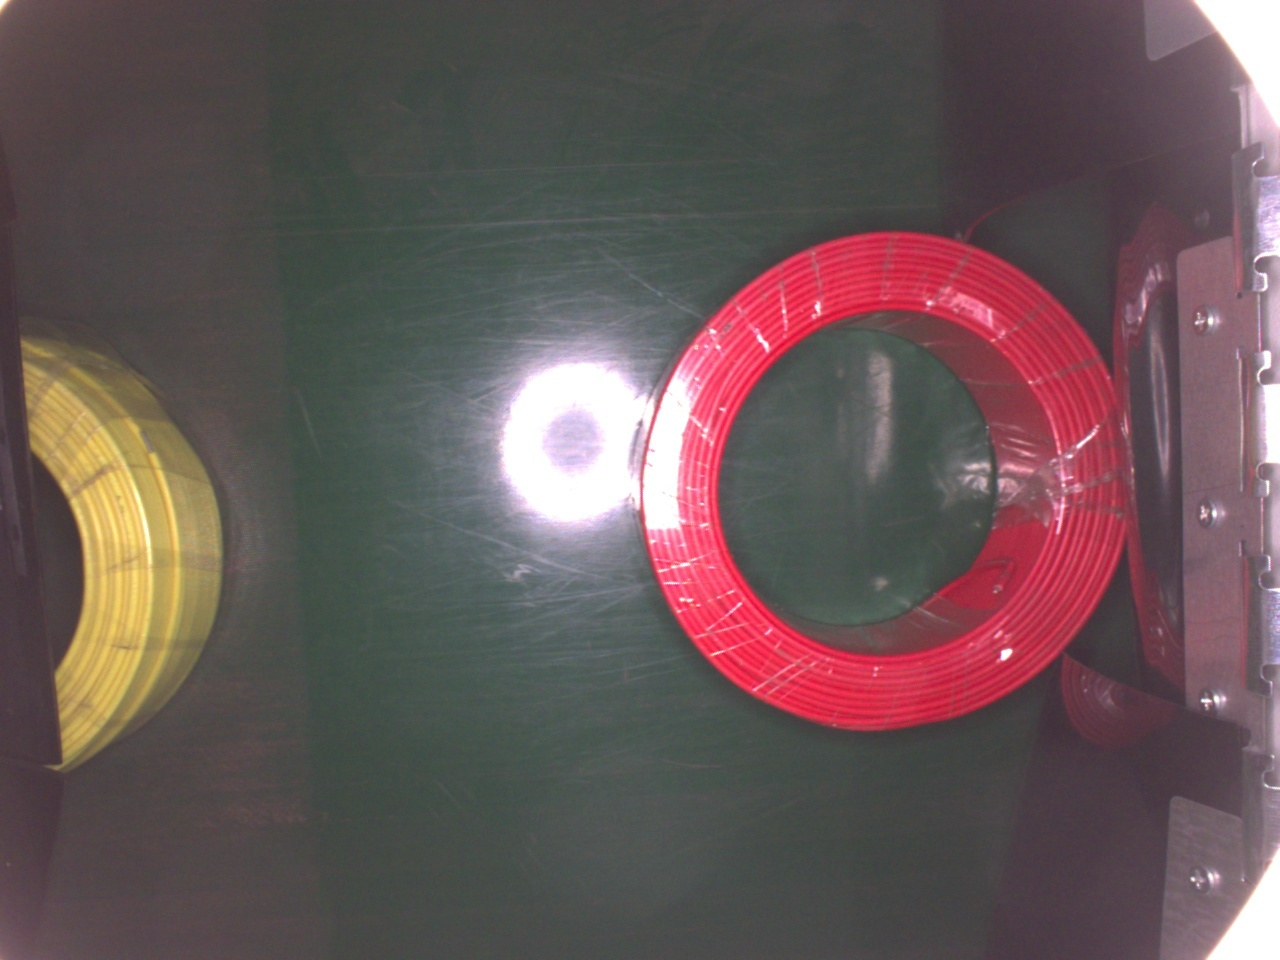red: (632, 227, 1124, 734)
yellow: (19, 322, 224, 772)
